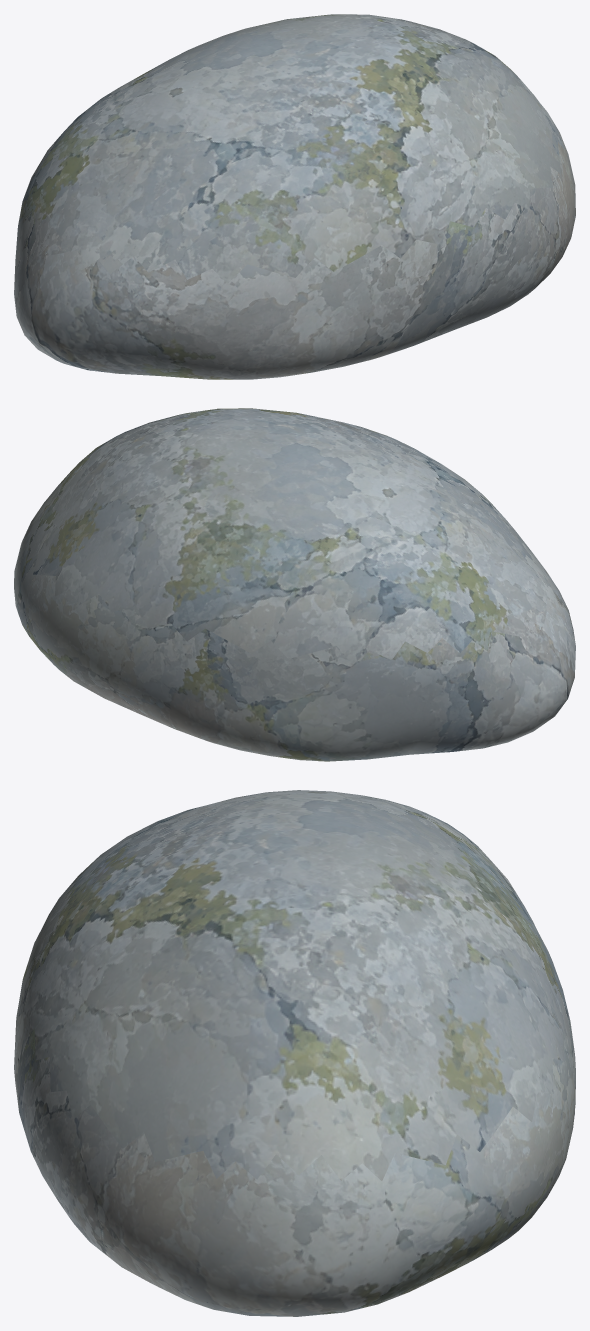
File: SM_SmoothForestRock_04.fbx
The picture shows the model from 3 angles, top to bottom: view 1: azimuth 30°, elevation 25°; view 2: azimuth 150°, elevation 25°; view 3: azimuth 270°, elevation 25°; orthographic projection. The views are drawn at different scales.
Visible parts, largest first — view 1: SM_SmoothForestRock_04; view 2: SM_SmoothForestRock_04; view 3: SM_SmoothForestRock_04.
Boxes of the visible parts, x1,y1,x2,y2 form: SM_SmoothForestRock_04: (14,14,575,379); SM_SmoothForestRock_04: (14,408,575,761); SM_SmoothForestRock_04: (14,790,575,1316).
Bounding box in the file's own units: 3.22 × 2.15 × 1.49.
